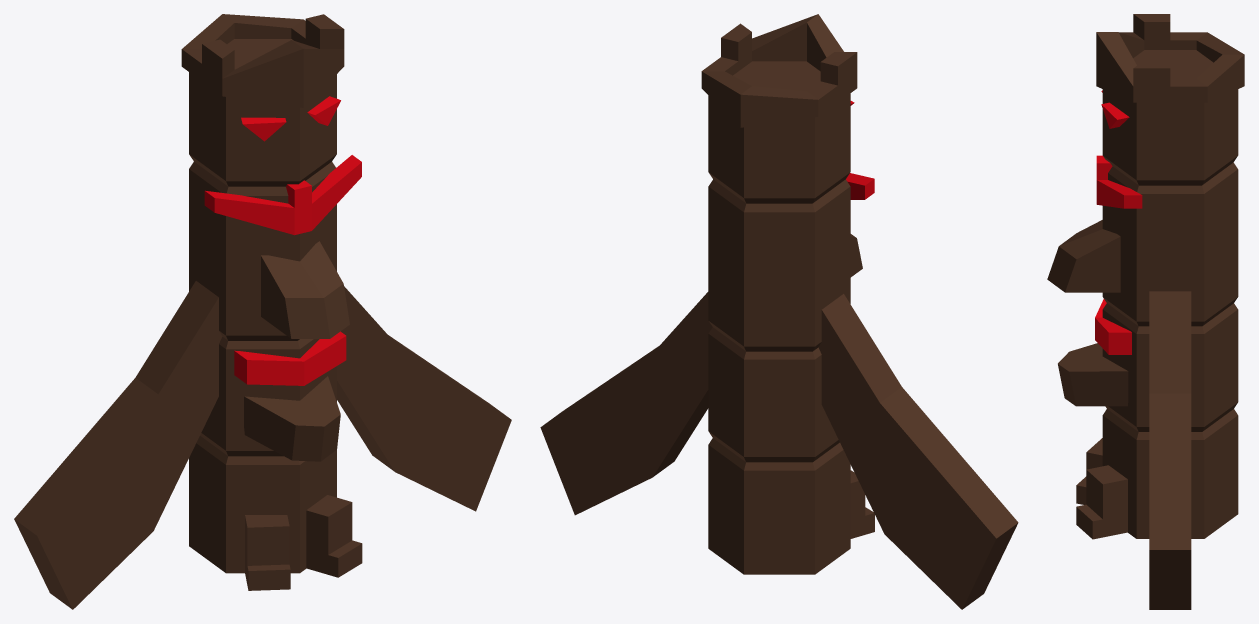
File: Totem_teir3.fbx
3 renders of one model, left to right at view 1: azimuth 30°, elevation 25°; view 2: azimuth 150°, elevation 25°; view 3: azimuth 270°, elevation 25°, orthographic. The views are drawn at different scales.
Parts seen in each view (by area): view 1: Cylinder.005, Cylinder.001, Cylinder.006; view 2: Cylinder.005, Cylinder.001, Cylinder.006; view 3: Cylinder.005, Cylinder.006.
Boxes of the visible parts, <box> form: Cylinder.005: <box>181,14,362,590</box>; Cylinder.001: <box>14,281,222,609</box>; Cylinder.006: <box>337,286,511,511</box>; Cylinder.005: <box>701,14,874,574</box>; Cylinder.001: <box>818,294,1018,609</box>; Cylinder.006: <box>540,292,712,515</box>; Cylinder.005: <box>1047,14,1244,539</box>; Cylinder.006: <box>1149,291,1191,609</box>.
Bounding box in the file's own units: 429 × 460 × 169.
